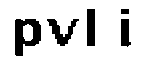i: (119, 6, 136, 54)
l: (82, 6, 105, 53)
p: (11, 18, 42, 60)
v: (43, 17, 78, 48)
